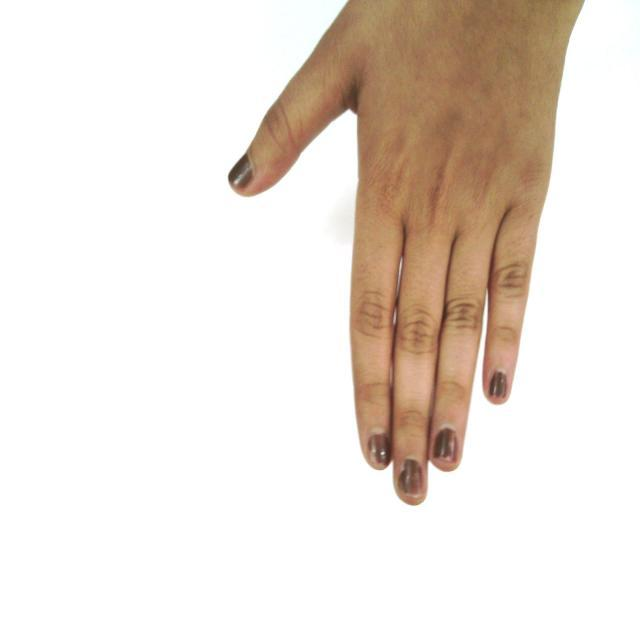Fingernail: (400, 460, 423, 497), (434, 428, 456, 461), (229, 155, 252, 185), (370, 434, 390, 467), (490, 371, 507, 399)
